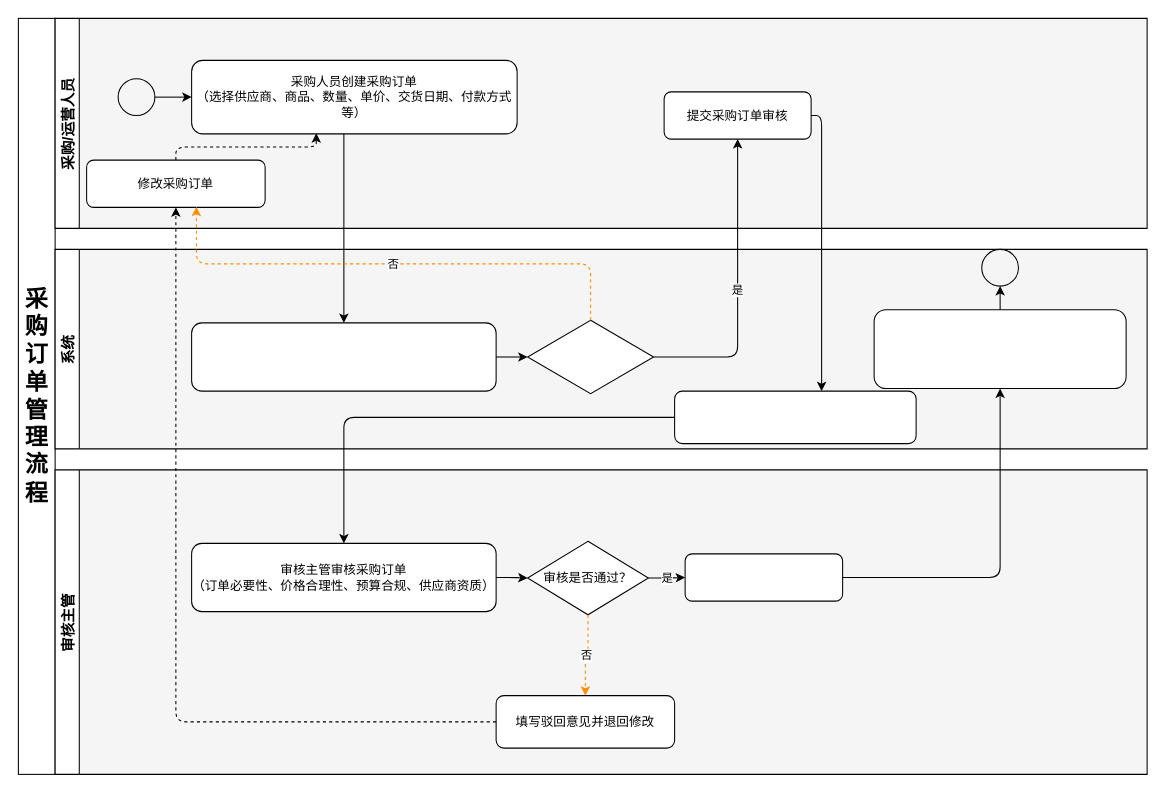
The diagram is 1166 pixels wide and 793 high, and some of its shapes have lost their labels. The shapes that lost their labels are listed below. From the top down, each one's centre as x and y in pixels, then its label:
At pixel 343 356: "系统自动校验采购订单 （库存可用性、供应商合同有效性、预算检查、价格合理性）".
At pixel 590 356: "系统校验是否通过？".
At pixel 999 348: "系统生成正式采购订单编号 更新订单状态为“已审批” 通知供应商并同步库存预期".
At pixel 795 417: "系统记录订单日志并通知审核主管".
At pixel 763 577: "审批通过并确认".
